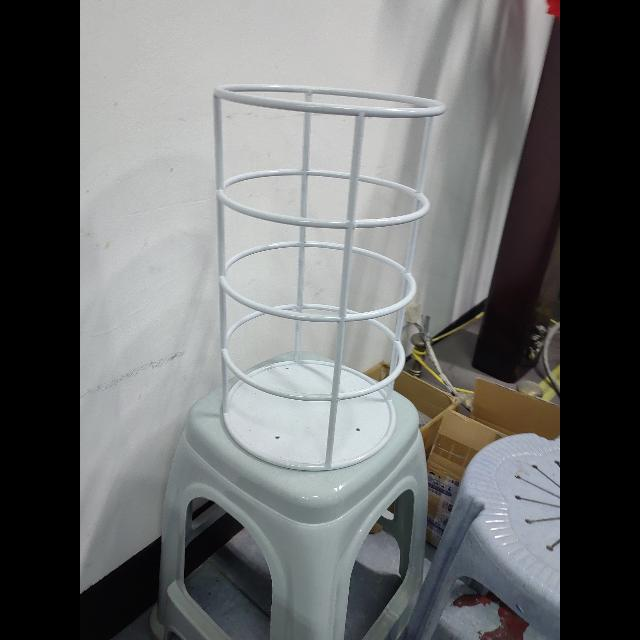S: (206, 78, 448, 478)
